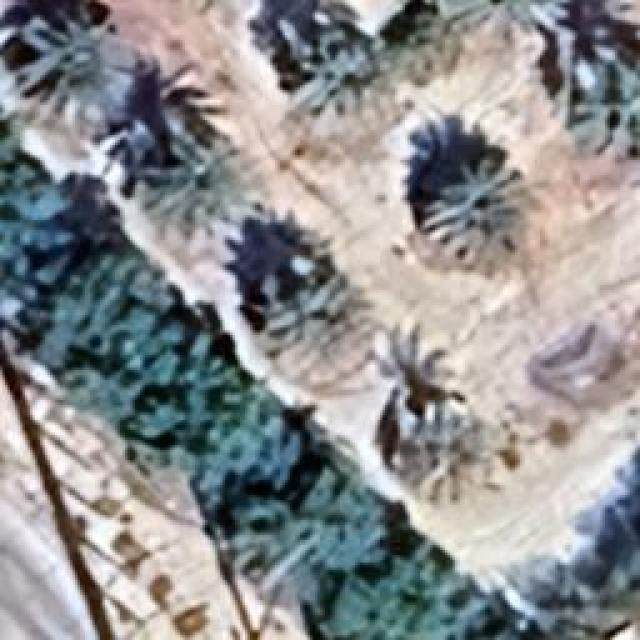PalmTree: (132, 120, 266, 270), (12, 7, 138, 135), (420, 152, 530, 278), (110, 38, 339, 85), (265, 280, 373, 375), (568, 45, 638, 160), (398, 408, 480, 502), (440, 0, 572, 55), (116, 13, 217, 38)
